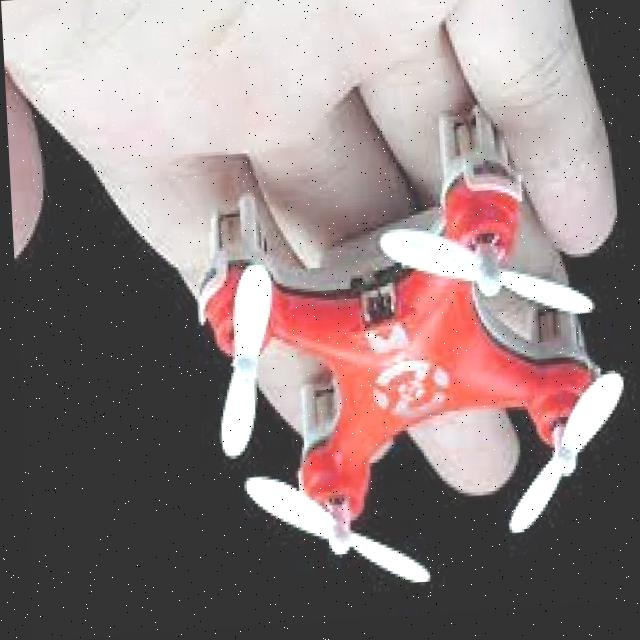drone: (198, 105, 629, 623)
